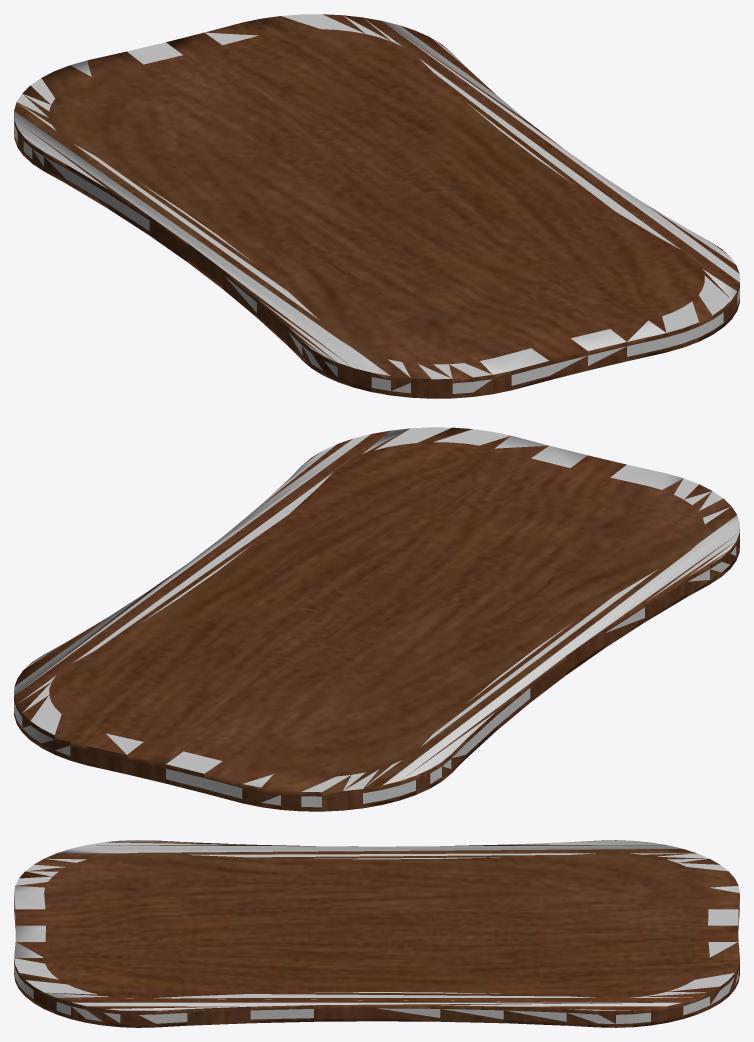
File: top.obj
The picture shows the model from 3 angles, top to bottom: view 1: azimuth 30°, elevation 25°; view 2: azimuth 150°, elevation 25°; view 3: azimuth 270°, elevation 25°; orthographic projection. The views are drawn at different scales.
Visible parts, largest first — view 1: top_mesh1_mesh1-geometry.005; view 2: top_mesh1_mesh1-geometry.005; view 3: top_mesh1_mesh1-geometry.005.
Part boxes in pixels (x1=…): top_mesh1_mesh1-geometry.005: x1=14, y1=14, x2=739, y2=398; top_mesh1_mesh1-geometry.005: x1=14, y1=427, x2=739, y2=811; top_mesh1_mesh1-geometry.005: x1=14, y1=840, x2=739, y2=1027.
Bounding box in the file's own units: 0.4712 × 0.0214 × 0.8445.
